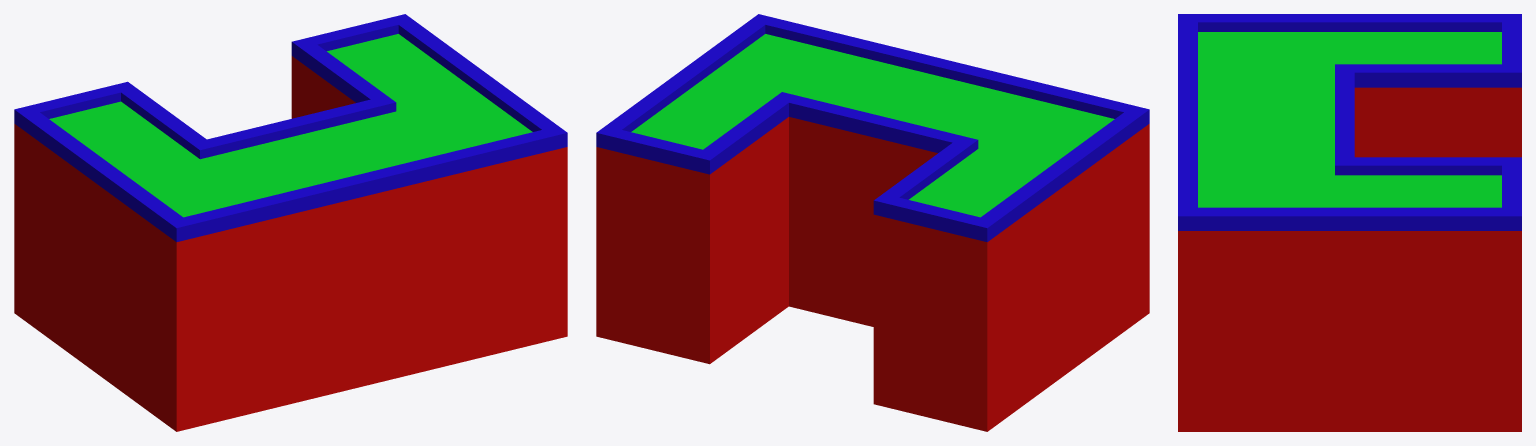
Rendered from Building4.fbx.
3 views of the same model, side by side, from view 1: azimuth 30°, elevation 25°; view 2: azimuth 150°, elevation 25°; view 3: azimuth 270°, elevation 25° (orthographic). The views are drawn at different scales.
Parts seen in each view (by area): view 1: Cube.003; view 2: Cube.003; view 3: Cube.003.
Boxes of the visible parts, x1,y1,x2,y2 form: Cube.003: [14, 14, 567, 431]; Cube.003: [596, 14, 1149, 431]; Cube.003: [1178, 14, 1521, 431].
Bounding box in the file's own units: 1441 × 717 × 1035.
